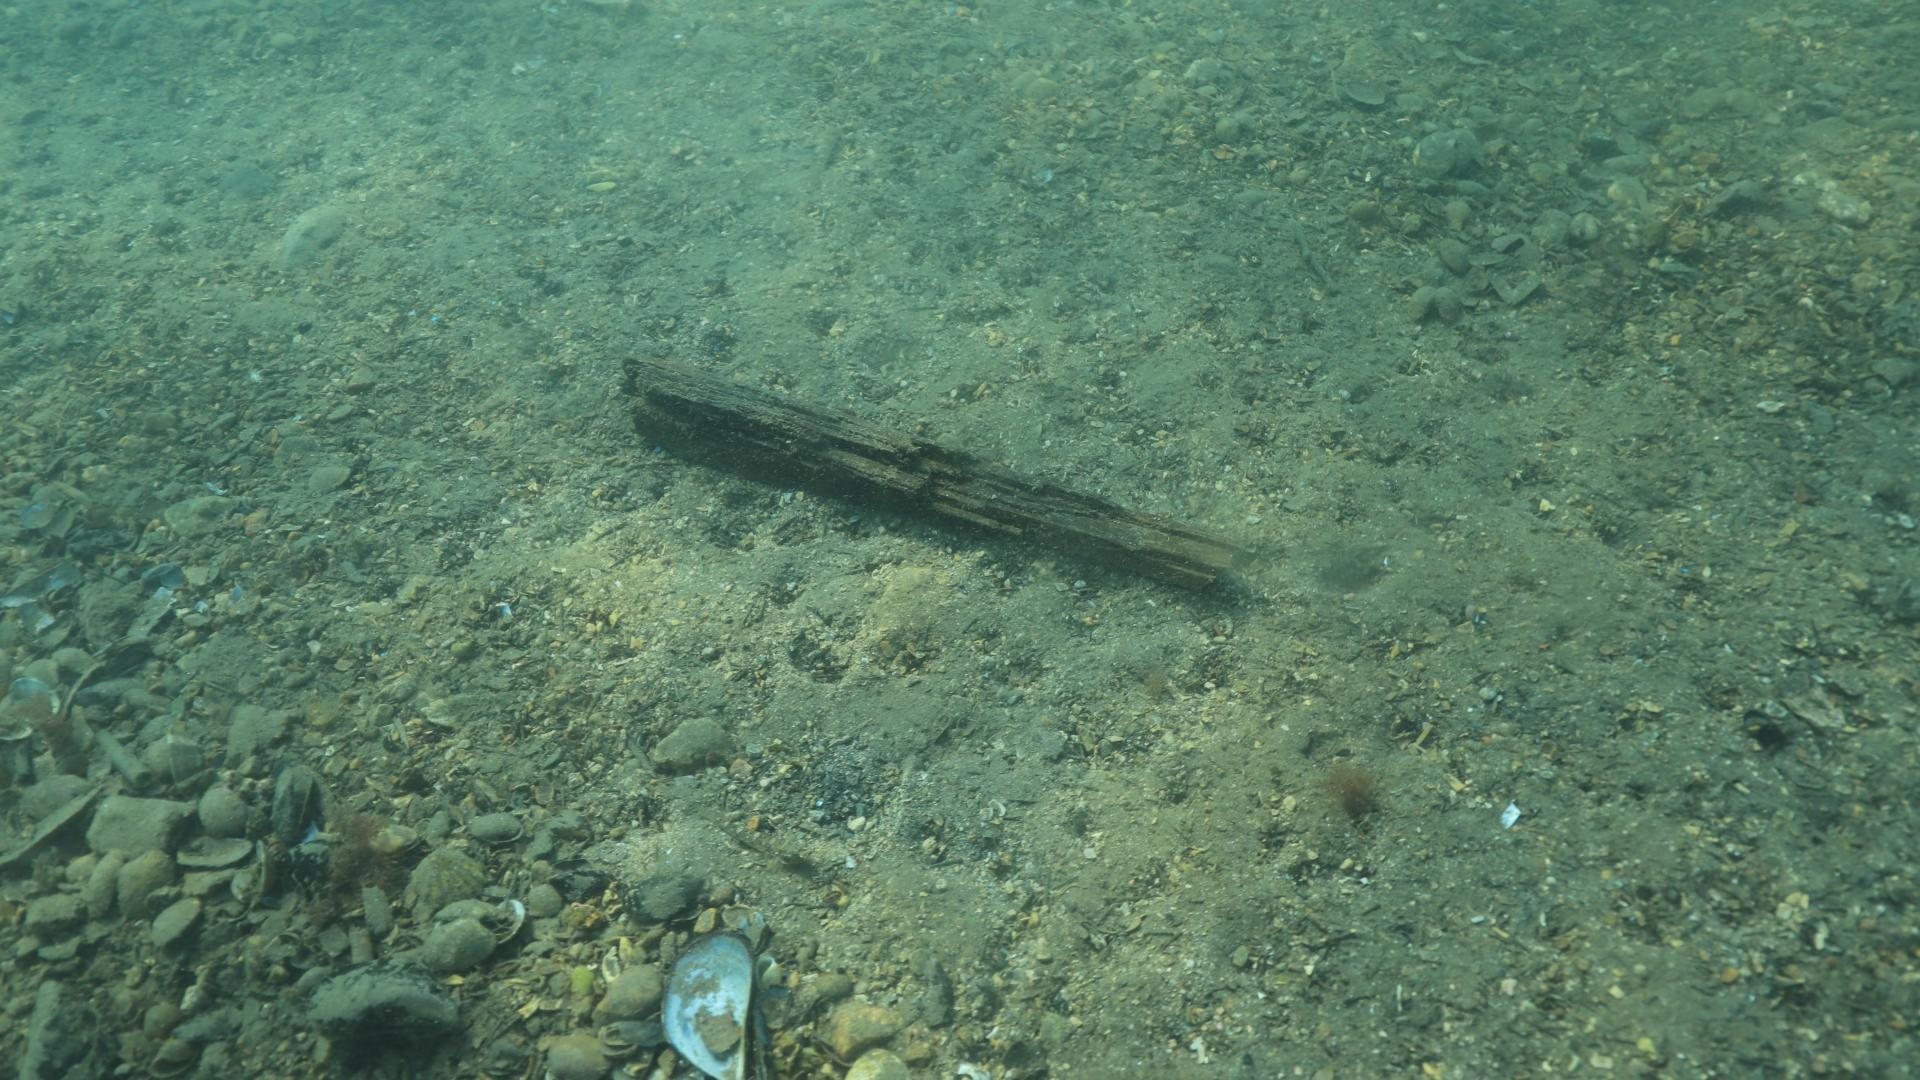wood: (617, 351, 1242, 593)
